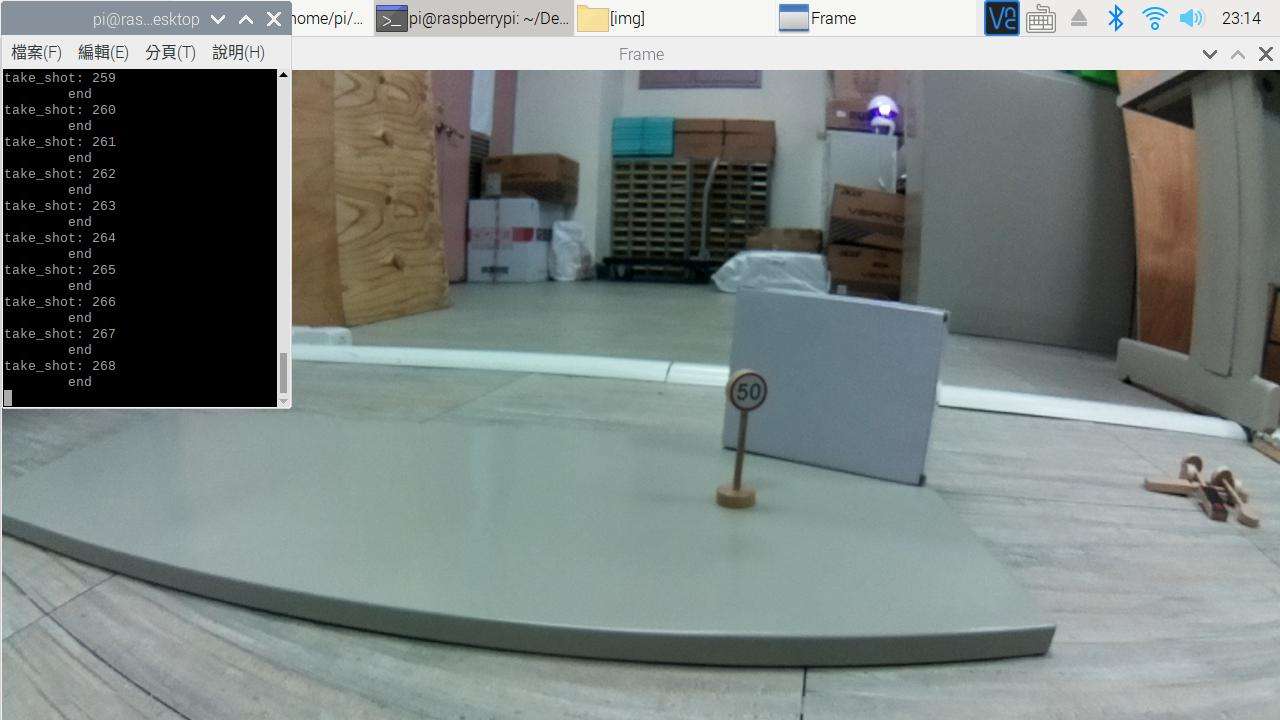Speed50: (716, 362, 779, 426)
